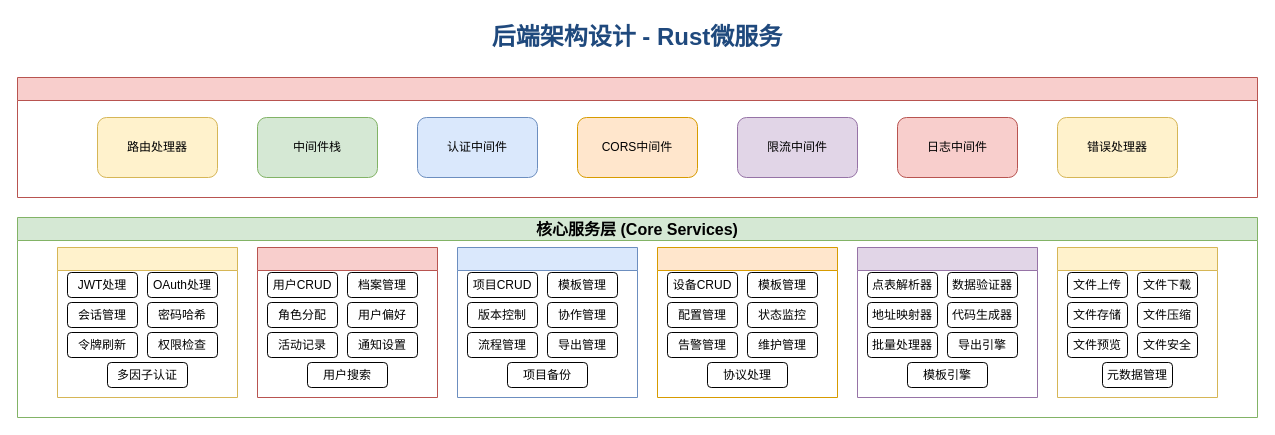
Image size: 1275x435. Some labels were removed from this diagram. Each missing label, with the box of its shape:
API网关层 (Axum): (16, 76, 1258, 198)
IO服务: (856, 246, 1038, 398)
文件服务: (1056, 246, 1218, 398)
用户服务: (256, 246, 438, 398)
认证服务: (56, 246, 238, 398)
设备服务: (656, 246, 838, 398)
项目服务: (456, 246, 638, 398)
